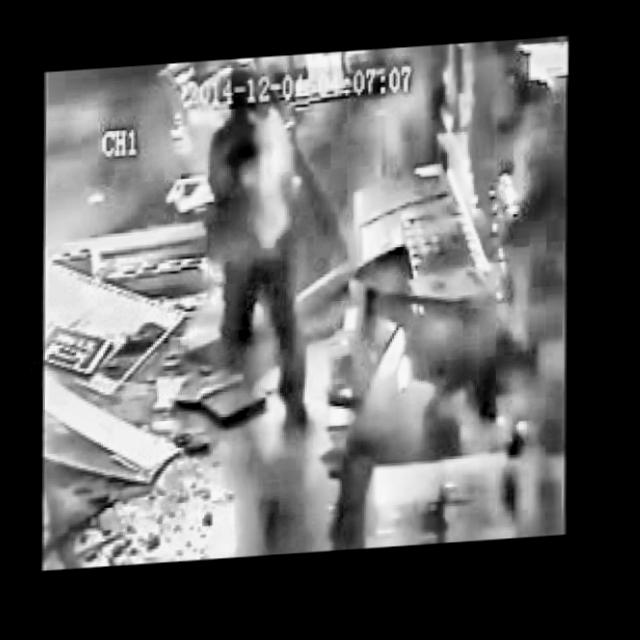burglary: (184, 55, 346, 452)
